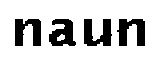a: (45, 14, 77, 51)
n: (9, 14, 43, 50), (114, 16, 146, 52)
u: (78, 12, 112, 51)
